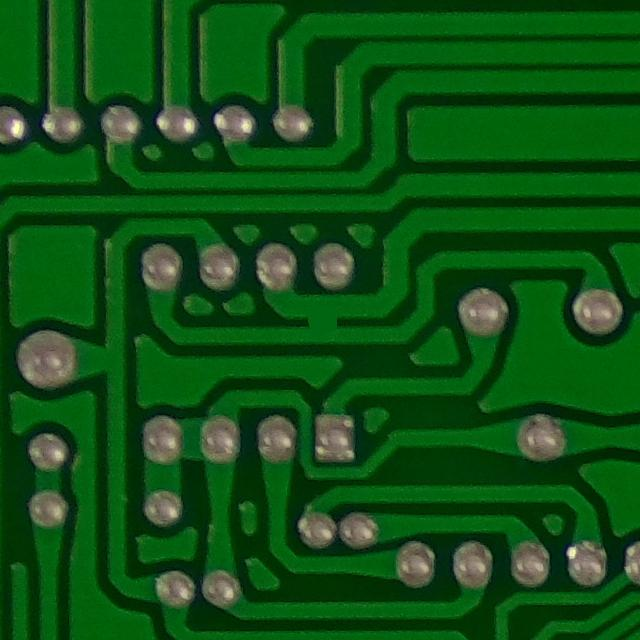short: (290, 287, 351, 353)
